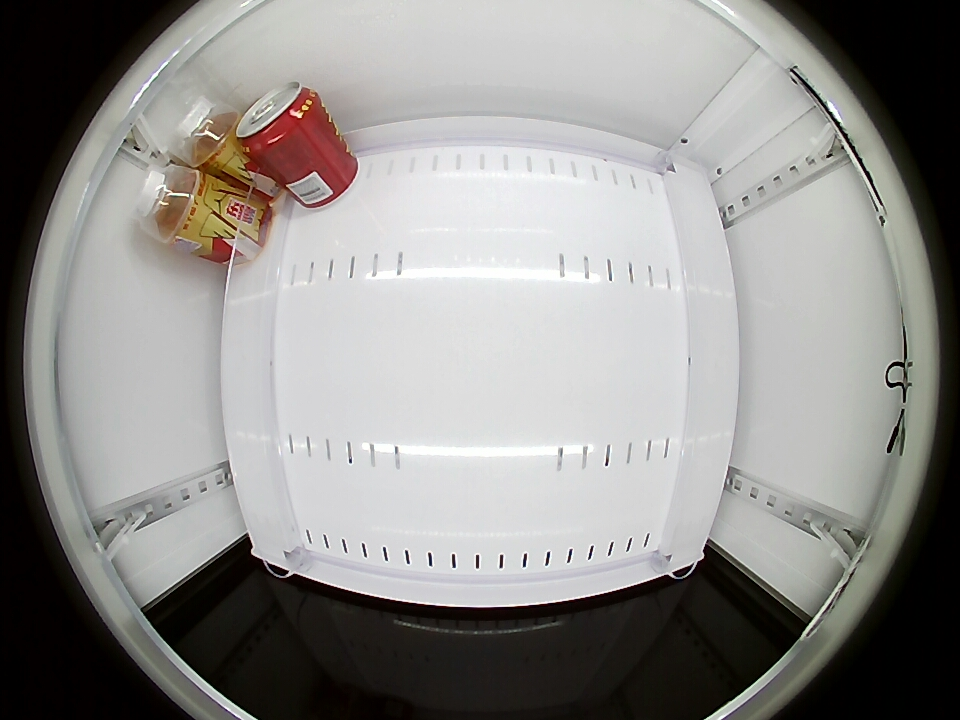dongpeng-b: (133, 166, 207, 243), (175, 98, 238, 166)
wanglaoji-c: (236, 82, 321, 157)
